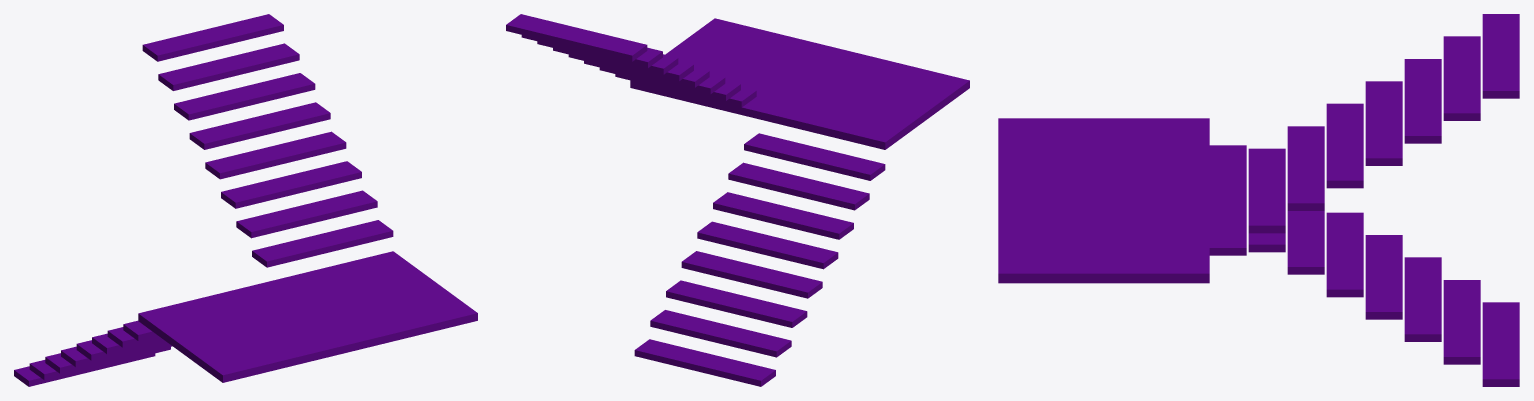
File: Stairs.fbx
3 views of the same model, side by side, from view 1: azimuth 30°, elevation 25°; view 2: azimuth 150°, elevation 25°; view 3: azimuth 270°, elevation 25° (orthographic). The views are drawn at different scales.
Parts seen in each view (by area): view 1: Cube.021; view 2: Cube.021; view 3: Cube.021.
Part boxes in pixels (x1,y1,x2,y2): Cube.021: (14, 14, 477, 386); Cube.021: (506, 14, 969, 386); Cube.021: (998, 14, 1519, 386).
Bounding box in the file's own units: 210 × 236 × 297.
